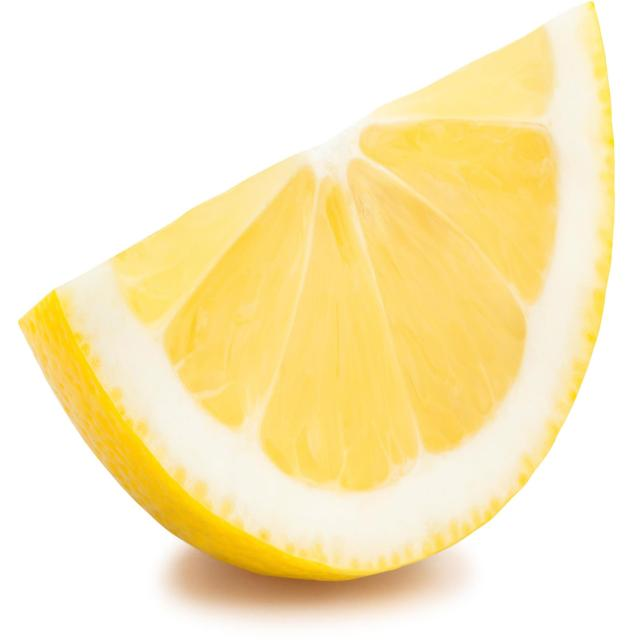lemon: (4, 0, 621, 610)
